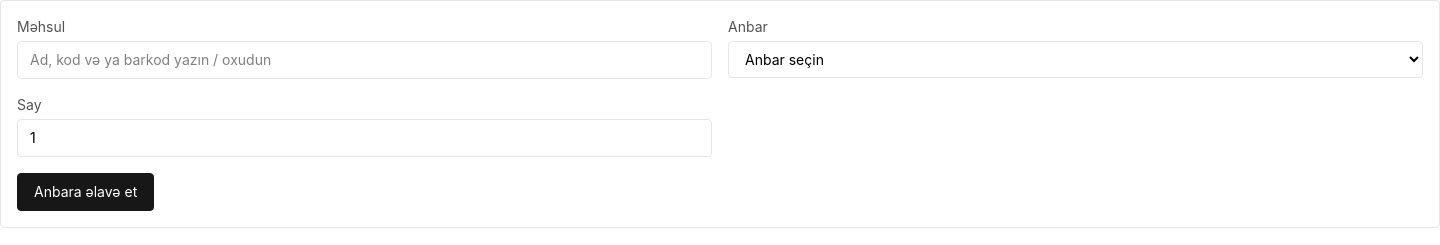
ReceiveStockForm product picker › does not submit the form on Enter and keeps looking when nothing matches
Type "yoxdur" into the dropdown labelled "Məhsul" at (364, 60), box [17,41,712,79]
Then press Enter
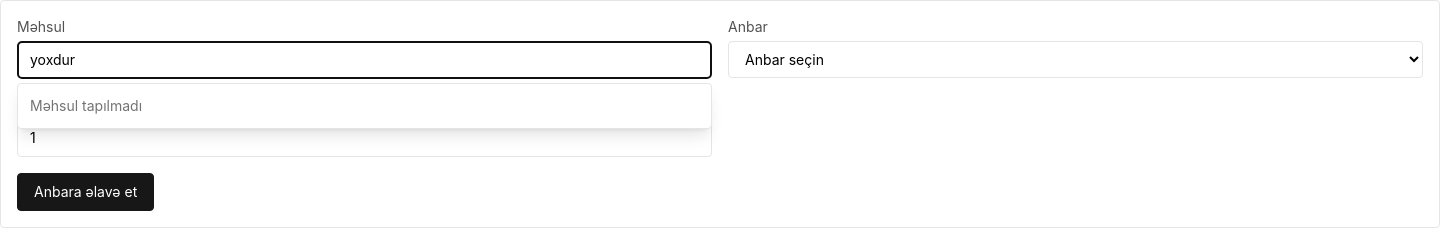
Expected: the list item "Məhsul tapılmadı" is shown, [30,97,142,114]
